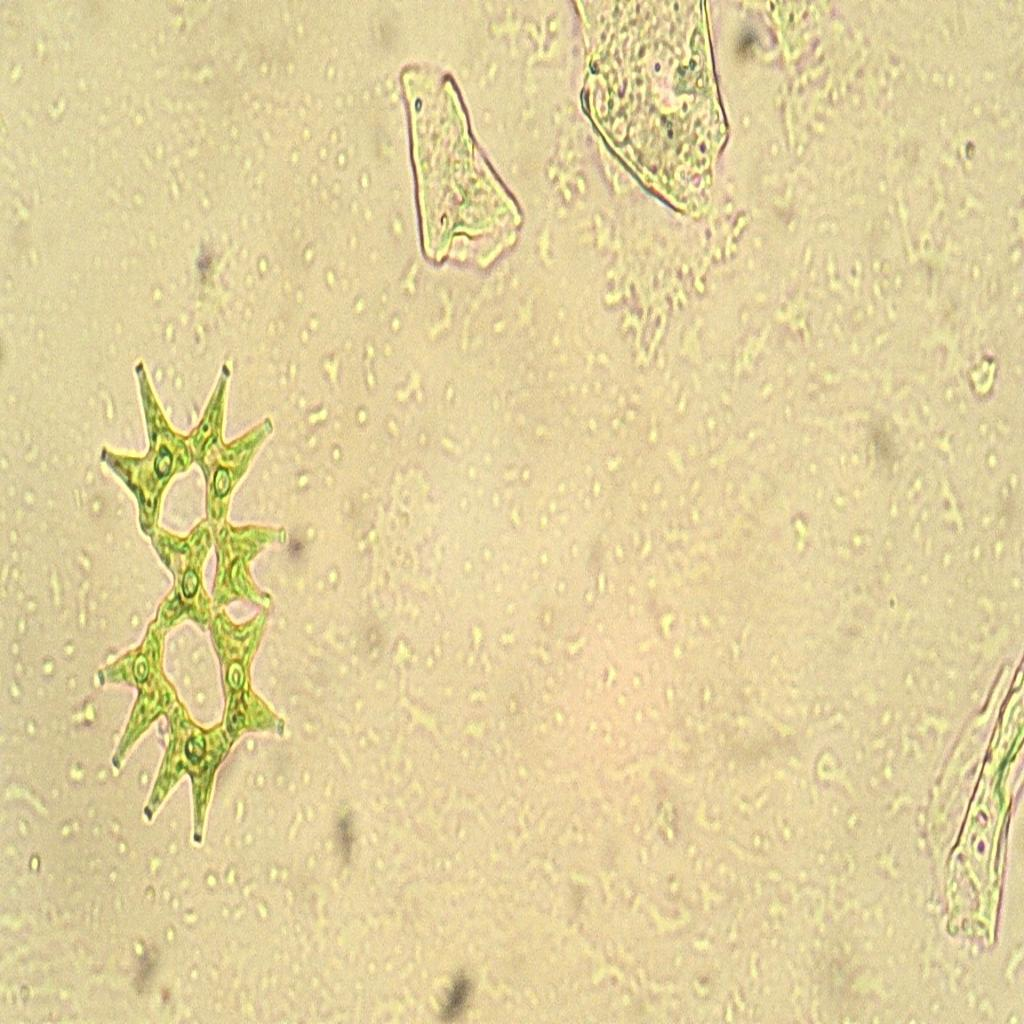Pediastrum_1TH: (75, 345, 298, 870)
